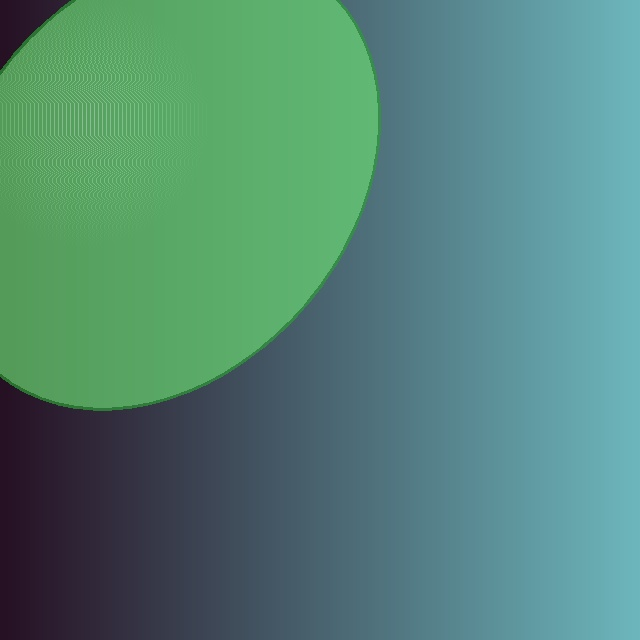lens: (0, 0, 379, 409)
